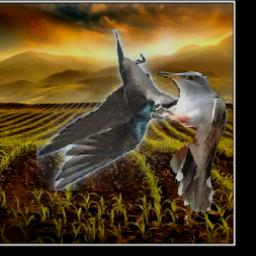Cuckoo: (150, 71, 229, 212)
Swallow: (36, 29, 180, 191)
